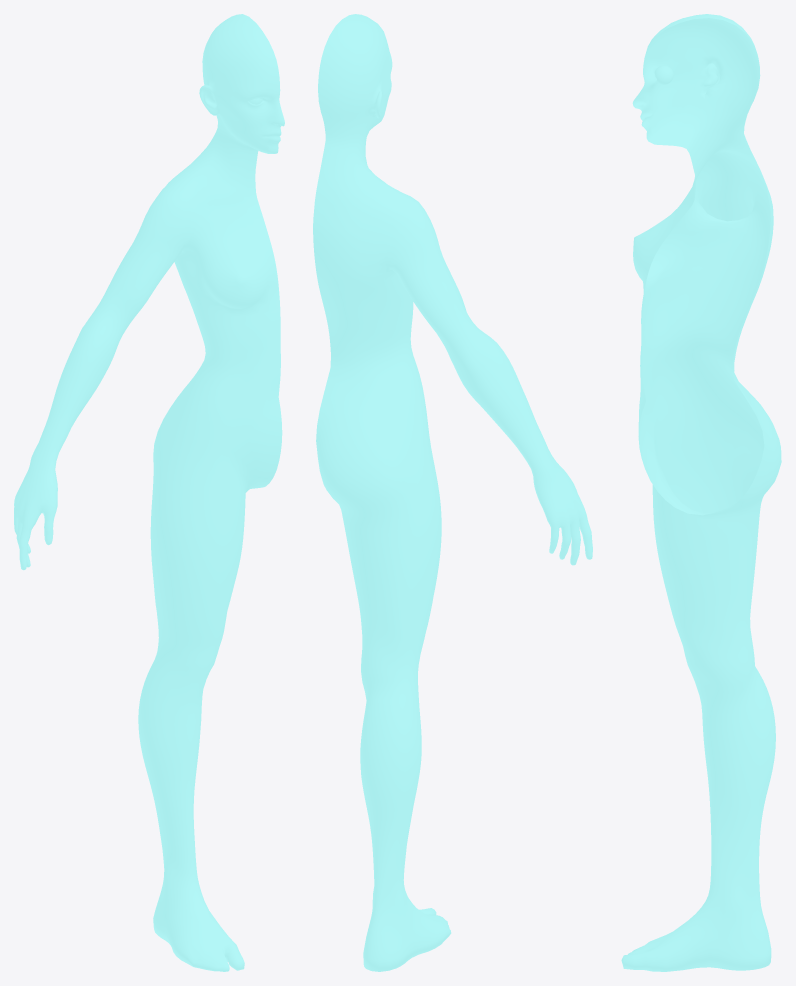
Rendered from FemaleHologram.glb.
3 renders of one model, left to right at view 1: azimuth 30°, elevation 25°; view 2: azimuth 150°, elevation 25°; view 3: azimuth 270°, elevation 25°, orthographic. The views are drawn at different scales.
Parts seen in each view (by area): view 1: FemaleHologram; view 2: FemaleHologram; view 3: FemaleHologram.
Boxes of the visible parts, box(x1,y1,x2,y2) form: FemaleHologram: box(14, 14, 284, 971); FemaleHologram: box(313, 14, 592, 971); FemaleHologram: box(621, 14, 781, 971).
Size of the model in its own units: 0.4638 by 1.69 by 0.2518.
